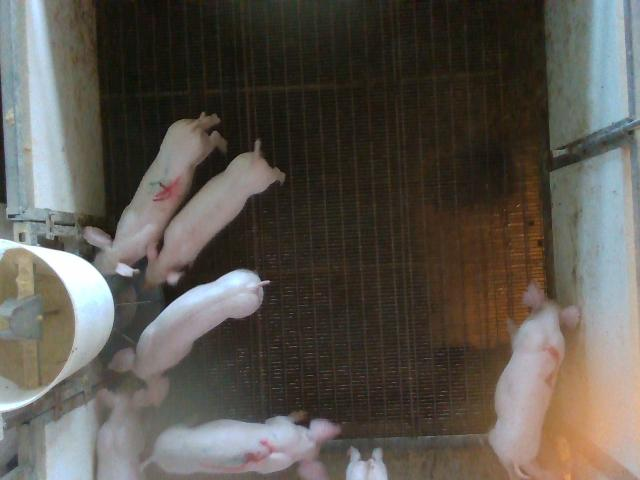pig-2: (489, 282, 580, 478)
pig-3: (148, 412, 340, 478)
pig-4: (85, 112, 226, 276)
